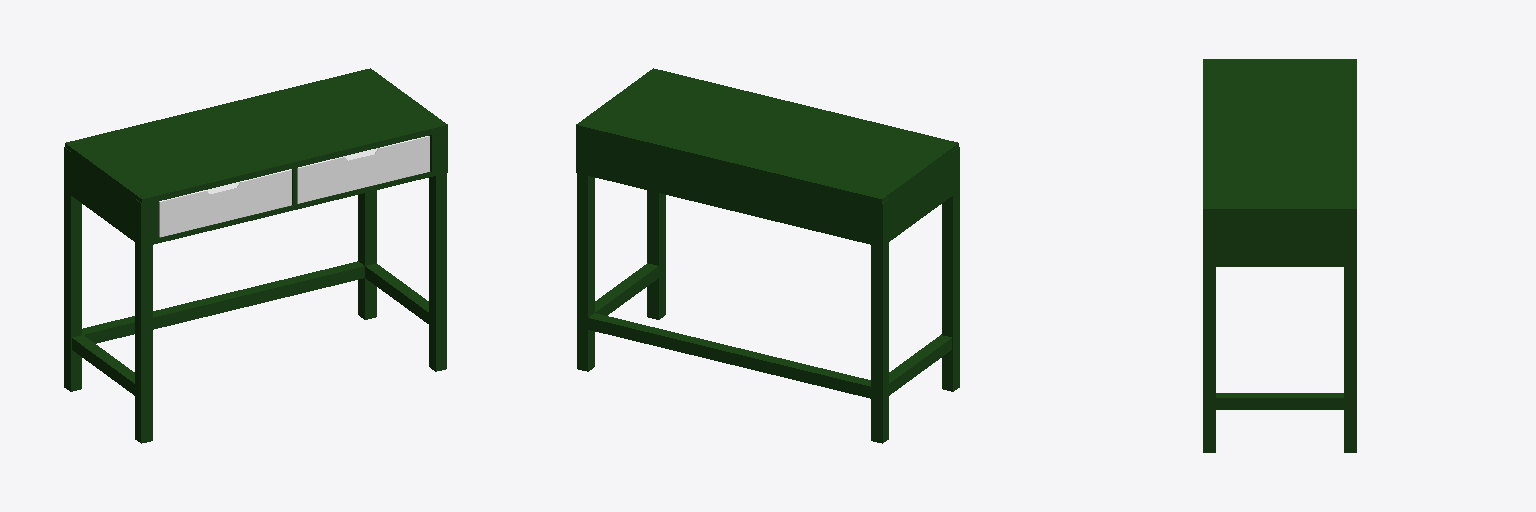
Rendered from desk1_green.obj.
3 views of the same model, side by side, from view 1: azimuth 30°, elevation 25°; view 2: azimuth 150°, elevation 25°; view 3: azimuth 270°, elevation 25° (orthographic).
Visible parts, largest first — view 1: Box6938, ChamferBox856, ChamferBox857, Box6945, Box6940, Box6942, Box6939, Box6941, Box6943, Box6944; view 2: Box6938, Box6945, Box6939, Box6941, Box6940, Box6942, Box6944, Box6943; view 3: Box6938, Box6942, Box6941, Box6943, Box6944.
Boxes of the visible parts, <box> form: Box6938: <box>65,68,447,244</box>; ChamferBox856: <box>159,169,291,237</box>; ChamferBox857: <box>297,136,429,203</box>; Box6945: <box>82,261,364,343</box>; Box6940: <box>135,199,152,443</box>; Box6942: <box>429,129,446,371</box>; Box6939: <box>64,147,81,391</box>; Box6941: <box>358,190,376,319</box>; Box6943: <box>365,263,431,326</box>; Box6944: <box>72,335,134,395</box>; Box6938: <box>576,68,958,246</box>; Box6945: <box>588,313,875,398</box>; Box6939: <box>871,199,888,443</box>; Box6941: <box>577,130,594,371</box>; Box6940: <box>942,147,959,391</box>; Box6942: <box>647,190,665,319</box>; Box6944: <box>889,334,951,395</box>; Box6943: <box>595,263,661,315</box>; Box6938: <box>1203,59,1356,256</box>; Box6942: <box>1203,257,1215,452</box>; Box6941: <box>1344,257,1356,452</box>; Box6943: <box>1210,393,1350,409</box>; Box6944: <box>1216,257,1343,266</box>.
Size of the model in its own units: 80.21 by 61.01 by 35.01.